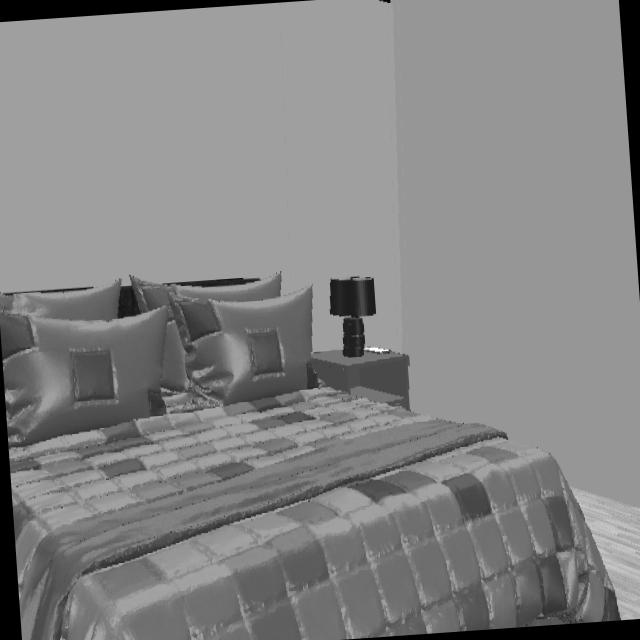bed: (8, 388, 617, 640)
lamp: (330, 278, 376, 356)
nighttable: (312, 350, 410, 409)
pillow: (0, 273, 312, 444)
